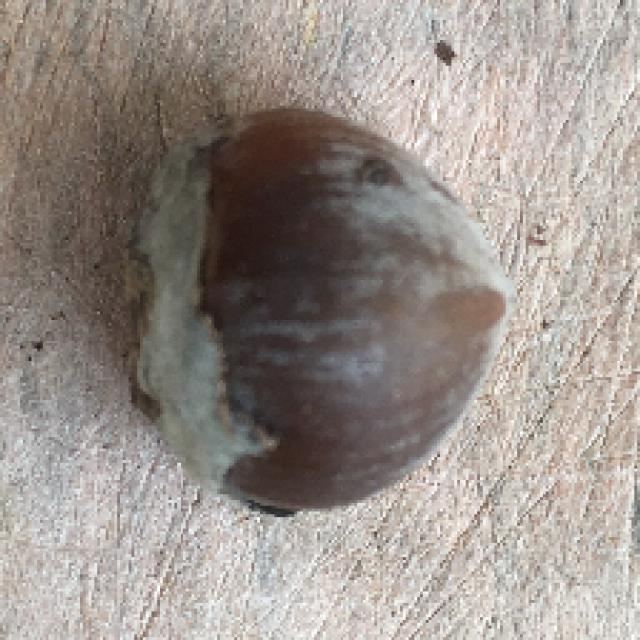damagedHazelnut: (114, 95, 510, 527)
